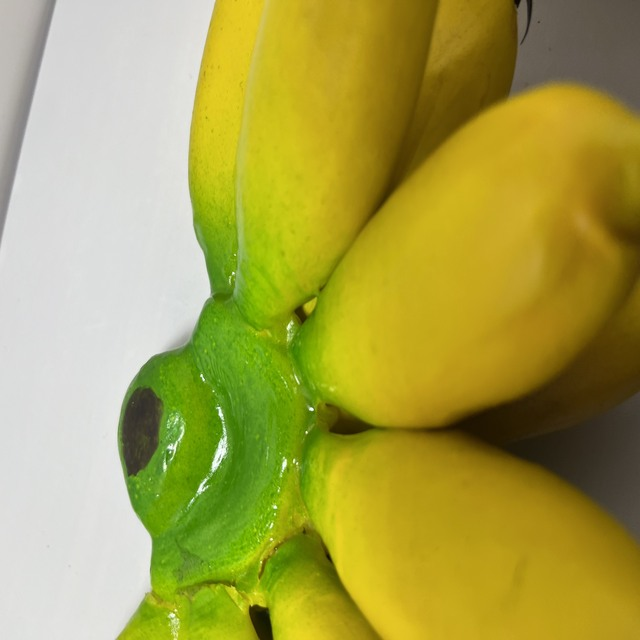Chuoi: (112, 0, 640, 640)
